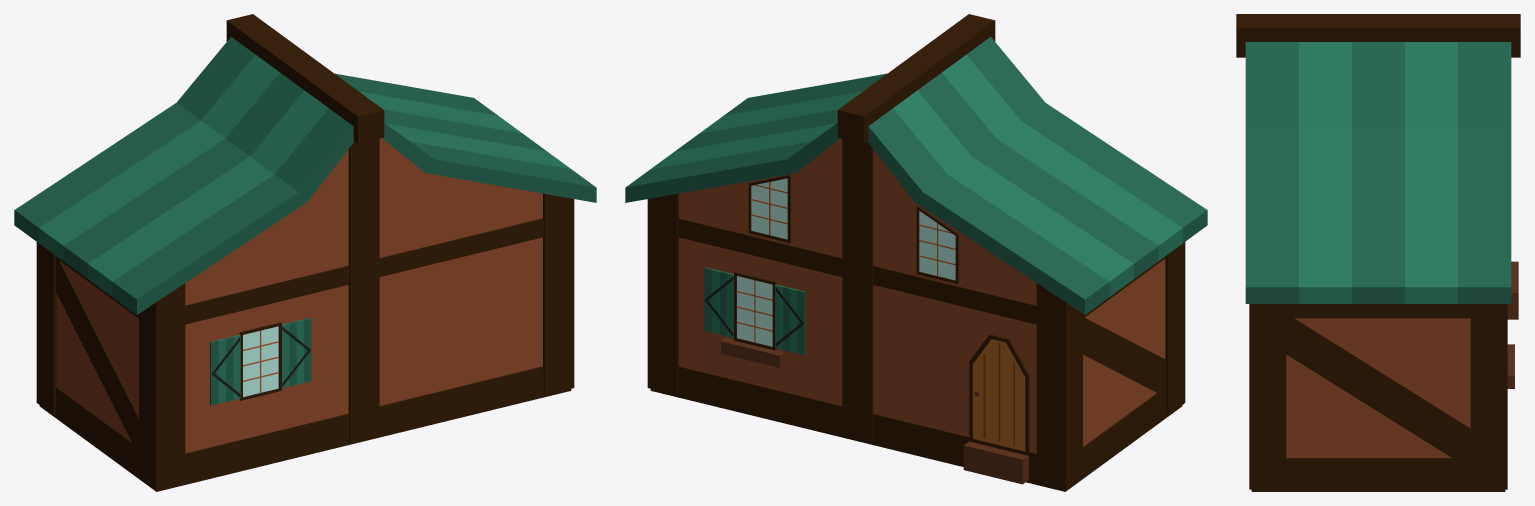
Rendered from Sulimo_Small_House_1_V2_test.fbx.
3 views of the same model, side by side, from view 1: azimuth 30°, elevation 25°; view 2: azimuth 150°, elevation 25°; view 3: azimuth 270°, elevation 25° (orthographic). The views are drawn at different scales.
Visible parts, largest first — view 1: Cube.065, Cube.055, Cube.060, Cube.056, Cube.059, Cube.057, Cube.058, Cube.063, Cube, Cube.067, Cube.061, Cube.085 (+2 smaller); view 2: Cube.065, Cube.055, Cube.060, Cube.056, Cube.064, Cube.061, Cube.058, Cube.062, Cube.071, Cube, Cube.057, Cube.067 (+7 smaller); view 3: Cube.065, Cube.055, Cube, Cube.066, Cube.062, Cube.063, Cube.056, Cube.058, Cube.070, Cube.092.
Part boxes in pixels (x1,y1,x2,y2): Cube.065: (14, 37, 596, 314); Cube.055: (56, 237, 542, 453); Cube.060: (185, 138, 542, 305); Cube.056: (39, 366, 571, 491); Cube.059: (348, 138, 379, 442); Cube.057: (139, 283, 185, 489); Cube.058: (55, 218, 543, 324); Cube.063: (543, 193, 574, 394); Cube: (226, 14, 384, 143); Cube.067: (55, 258, 138, 455); Cube.061: (36, 242, 56, 415); Cube.085: (239, 322, 281, 400); Cube.065: (625, 37, 1207, 314); Cube.055: (679, 237, 1165, 453); Cube.060: (679, 138, 1036, 305); Cube.056: (650, 366, 1182, 491); Cube.064: (842, 138, 873, 442); Cube.061: (1036, 283, 1082, 489); Cube.058: (678, 218, 1166, 324); Cube.062: (647, 193, 678, 394); Cube.071: (969, 334, 1029, 455); Cube: (837, 14, 995, 143); Cube.057: (1165, 242, 1185, 415); Cube.067: (1083, 317, 1166, 396); Cube.065: (1245, 42, 1511, 303); Cube.055: (1286, 318, 1470, 457); Cube: (1236, 14, 1520, 57); Cube.066: (1286, 318, 1470, 468); Cube.062: (1470, 304, 1507, 489); Cube.063: (1249, 304, 1286, 489); Cube.056: (1251, 458, 1505, 491); Cube.058: (1286, 304, 1470, 318); Cube.070: (1507, 261, 1518, 319); Cube.092: (1507, 344, 1514, 388).
Bounding box in the file's own units: 780 × 541 × 386.
